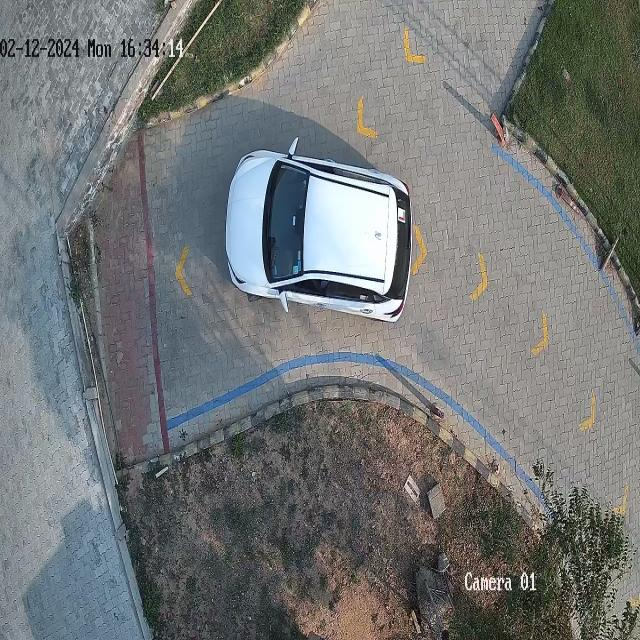car: (224, 150, 413, 320)
